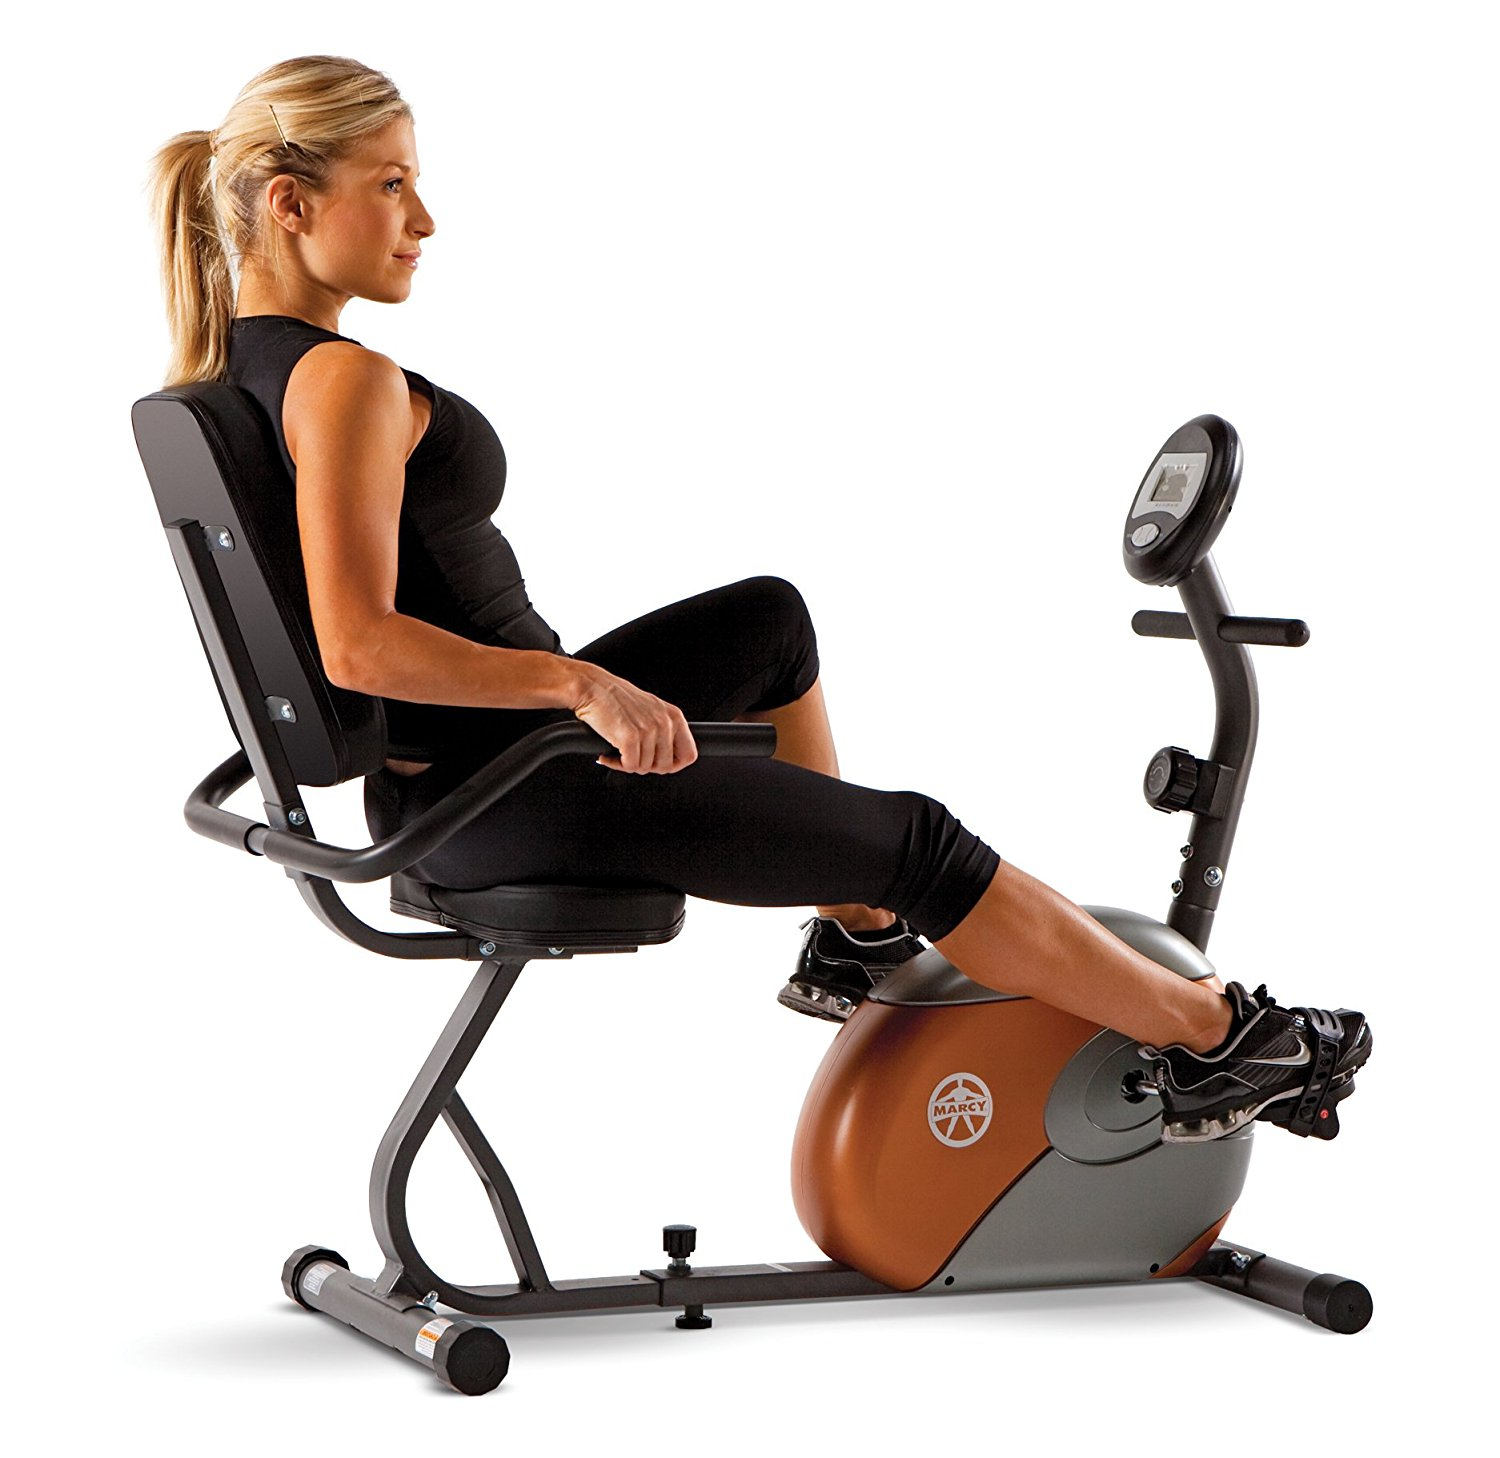gym_bike: (94, 370, 1426, 1374)
